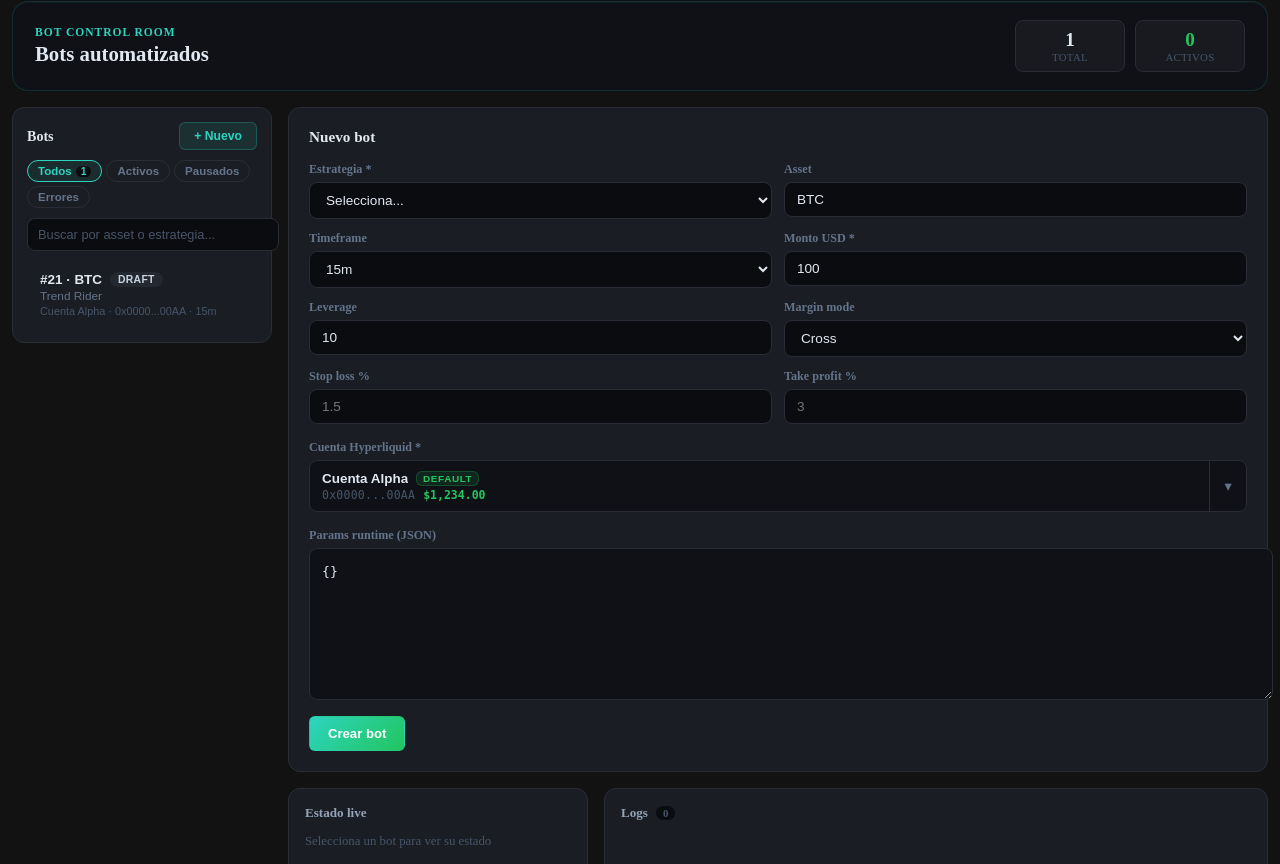
BotsPage › carga bots y muestra el historial de ejecuciones
The width and height of the screenshot is (1280, 864).
Expected: the text "#21 · BTC" is shown, [40,272,102,287]
Click the button "#21 · BTC" at x=142, y=294, box [27,261,257,328]
(page scrolled)
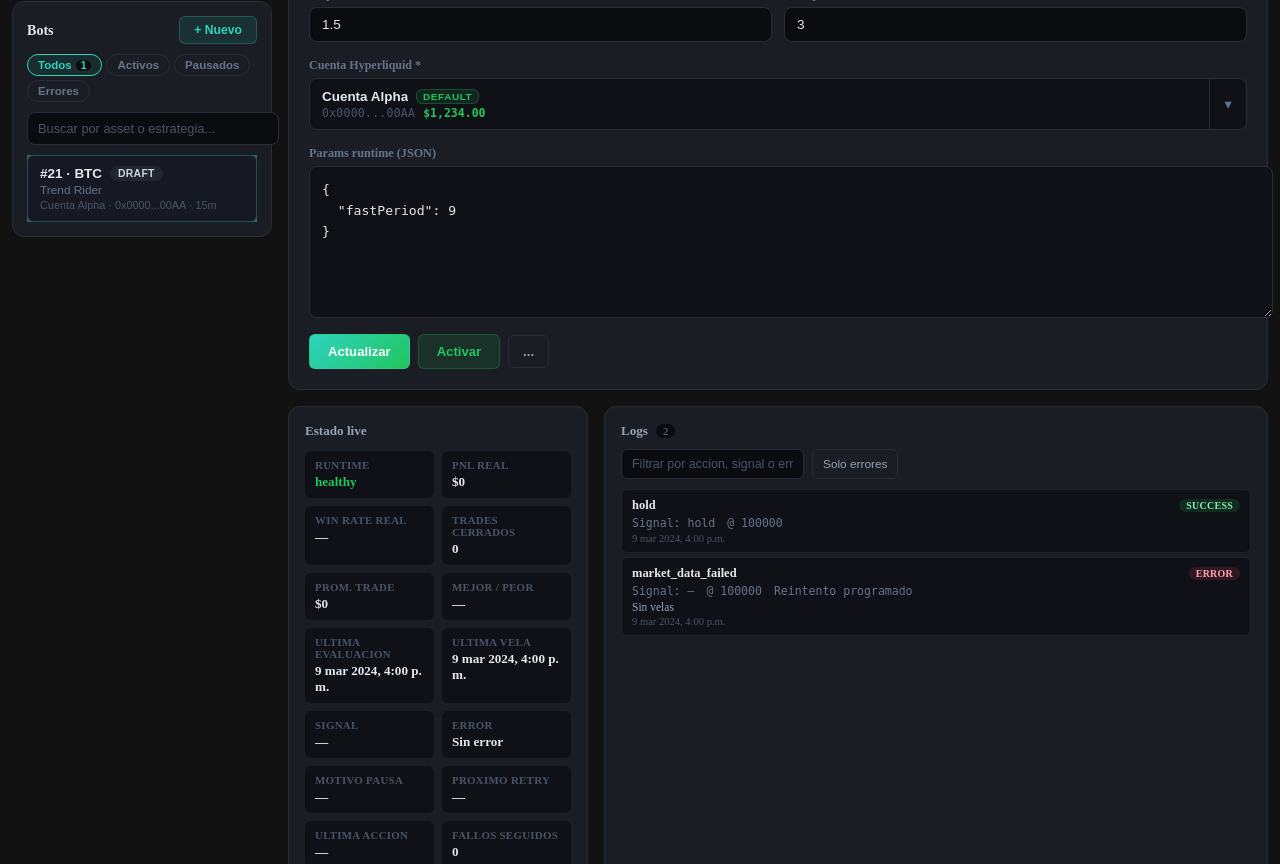
Expected: the text "Trend Rider" is shown, [40,183,102,197]
Expected: the text "hold" is shown, [632,498,656,513]
